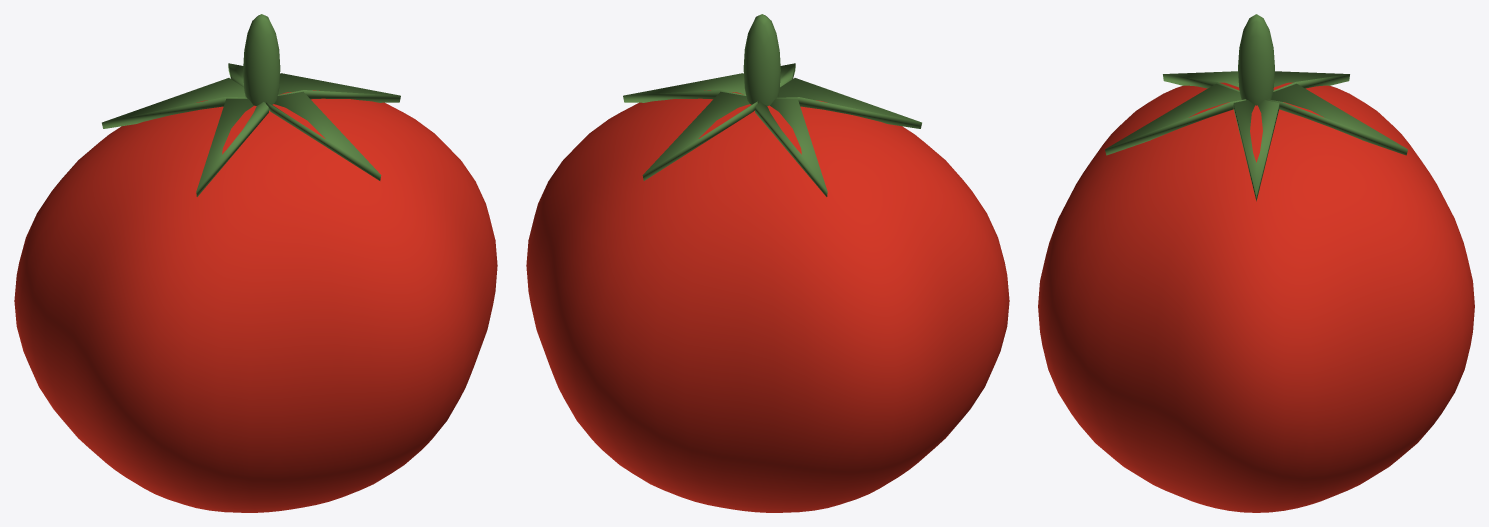
The model's file is standard_red.glb.
The picture shows the model from 3 angles, left to right: view 1: azimuth 30°, elevation 25°; view 2: azimuth 150°, elevation 25°; view 3: azimuth 270°, elevation 25°; orthographic projection.
Visible parts, largest first — view 1: Standard Red, Stem, Calyx leaf.001, Calyx leaf.003, Calyx leaf.002, Calyx leaf; view 2: Standard Red, Stem, Calyx leaf.004, Calyx leaf.002, Calyx leaf.003, Calyx leaf; view 3: Standard Red, Calyx leaf.001, Calyx leaf.004, Stem, Calyx leaf, Calyx leaf.003, Calyx leaf.002.
Part boxes in pixels (x1,y1,x2,y2): Standard Red: (14,90,497,512); Stem: (243,14,280,105); Calyx leaf.001: (266,91,381,180); Calyx leaf.003: (102,78,247,128); Calyx leaf.002: (196,98,268,196); Calyx leaf: (277,73,400,102); Standard Red: (526,90,1009,512); Stem: (743,14,780,105); Calyx leaf.004: (642,91,757,180); Calyx leaf.002: (776,78,921,128); Calyx leaf.003: (755,98,827,196); Calyx leaf: (623,73,746,102); Standard Red: (1038,82,1474,512); Calyx leaf.001: (1105,83,1246,155); Calyx leaf.004: (1266,83,1407,155); Stem: (1238,14,1274,105); Calyx leaf: (1233,100,1279,201); Calyx leaf.003: (1273,71,1349,91); Calyx leaf.002: (1163,71,1239,91).
Size of the model in its own units: 1.2 by 1.29 by 1.08.
